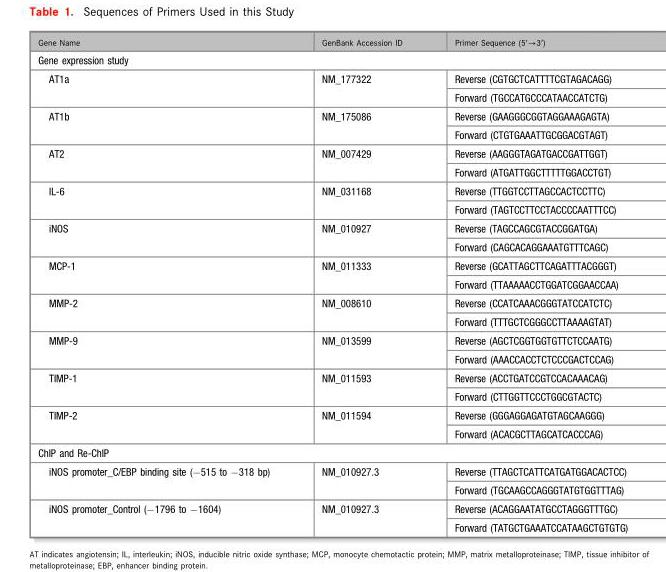table: (37, 36, 627, 532)
table column: (37, 36, 295, 532), (427, 36, 627, 532), (295, 36, 427, 532)
table column header: (37, 36, 627, 50)
table projected row header: (37, 442, 627, 461), (37, 50, 627, 68)
table row: (37, 68, 627, 87), (37, 87, 627, 106), (37, 124, 627, 143), (37, 143, 627, 162), (37, 162, 627, 181), (37, 199, 627, 218), (37, 218, 627, 237), (37, 255, 627, 274), (37, 274, 627, 293), (37, 311, 627, 330), (37, 330, 627, 349), (37, 367, 627, 386), (37, 386, 627, 405), (37, 405, 627, 424), (37, 442, 627, 461), (37, 461, 627, 480), (37, 498, 627, 517), (37, 50, 627, 68), (37, 106, 627, 124), (37, 181, 627, 199), (37, 237, 627, 255), (37, 293, 627, 311), (37, 349, 627, 367), (37, 424, 627, 442), (37, 480, 627, 498), (37, 517, 627, 532), (37, 36, 627, 50)
table spanning cell: (37, 68, 295, 106), (37, 143, 295, 181), (37, 255, 295, 293), (37, 367, 295, 405), (37, 106, 295, 143), (37, 181, 295, 218), (37, 218, 295, 255), (37, 293, 295, 330), (37, 330, 295, 367), (37, 405, 295, 442), (37, 461, 295, 498), (37, 498, 295, 532), (295, 68, 427, 106), (295, 143, 427, 181), (295, 255, 427, 293), (295, 367, 427, 405), (295, 106, 427, 143), (295, 181, 427, 218), (295, 218, 427, 255), (295, 293, 427, 330), (295, 330, 427, 367), (295, 405, 427, 442), (295, 461, 427, 498), (295, 498, 427, 532)
